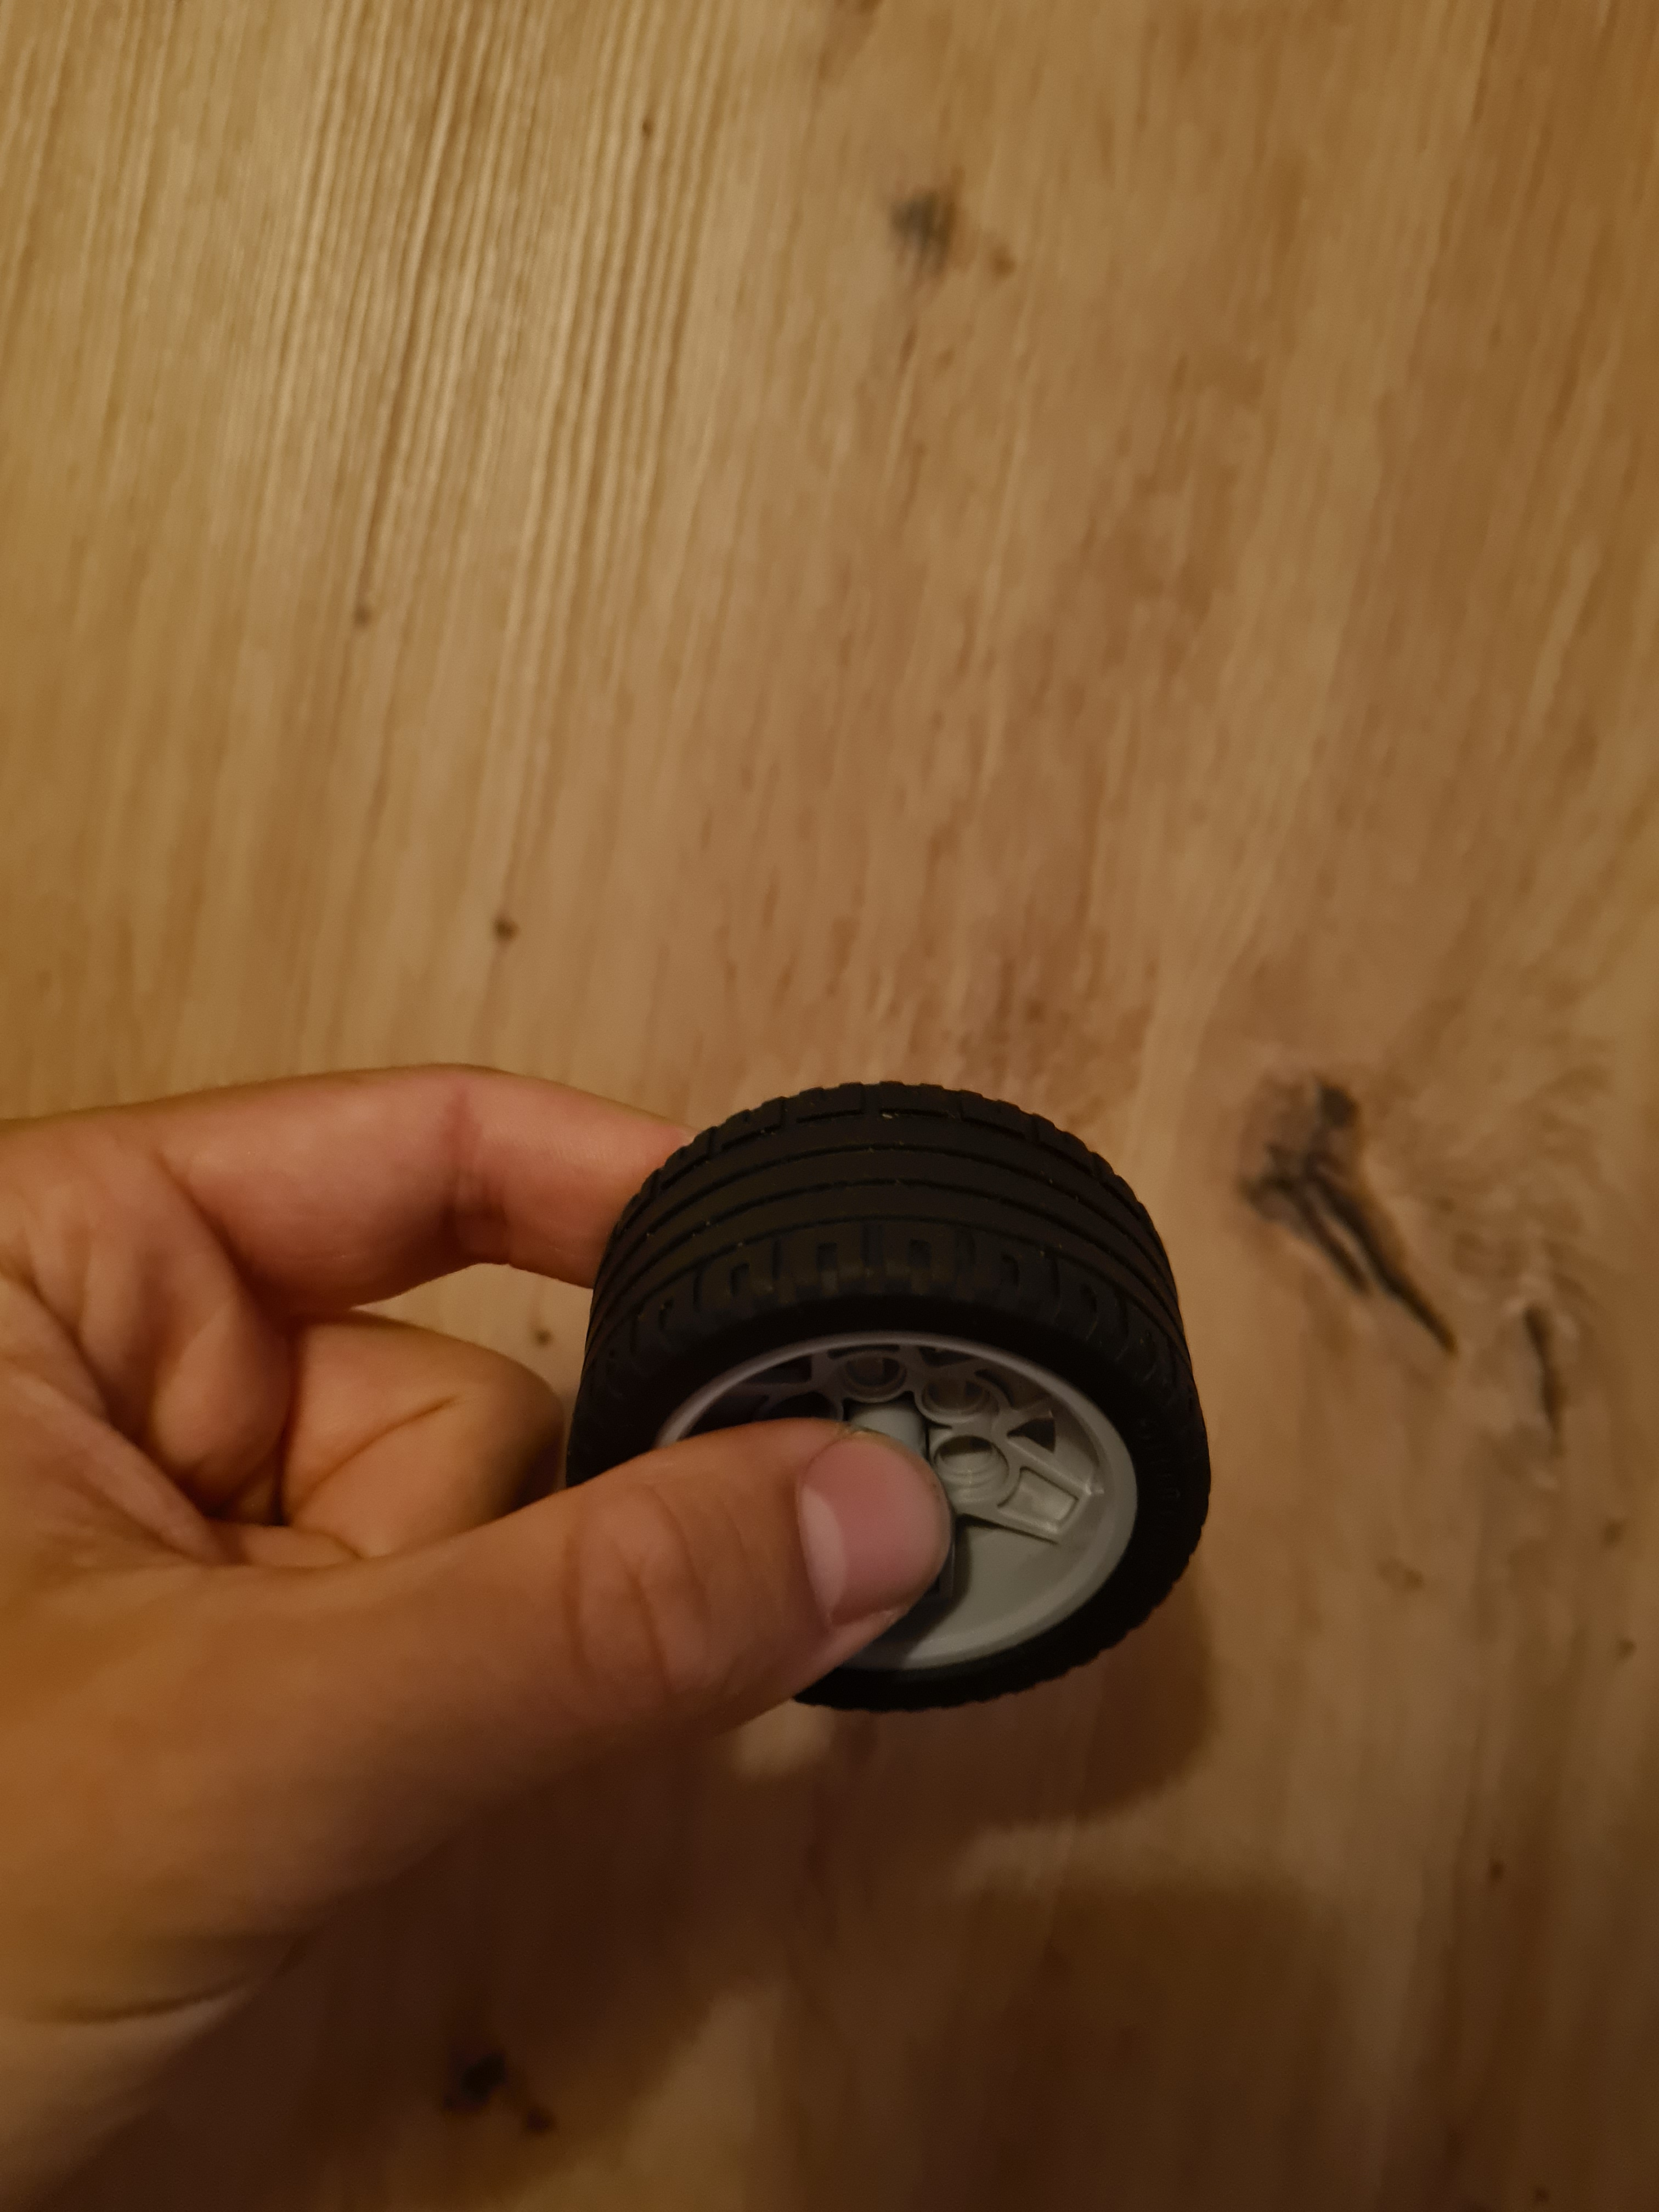Rad: (551, 1049, 1225, 1737)
